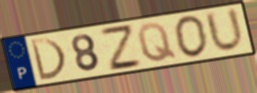8: (71, 33, 102, 73)
D: (28, 36, 68, 82)
O: (173, 14, 210, 59)
Q: (135, 21, 179, 64)
U: (202, 6, 247, 54)
Z: (98, 24, 145, 73)
